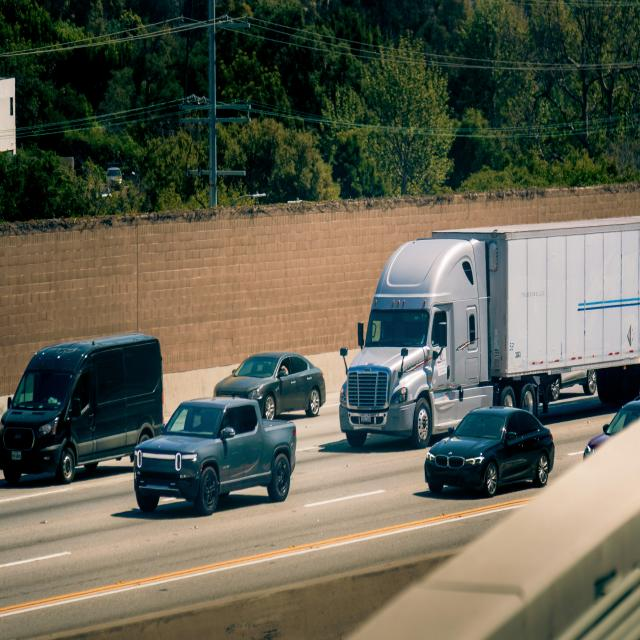Car: (135, 398, 296, 514), (425, 408, 554, 496), (214, 353, 325, 419), (584, 400, 639, 457)
Trucks: (340, 218, 639, 446)
